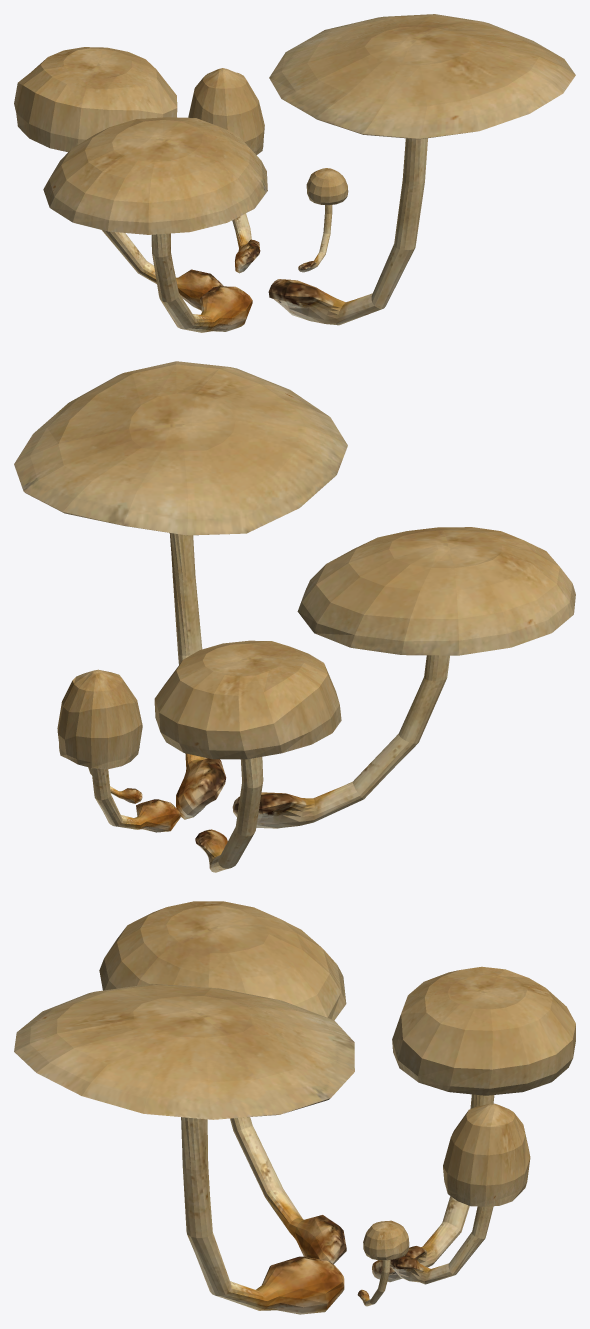
The model's file is P_Xinbaogu_03.obj.
3 renders of one model, top to bottom at view 1: azimuth 30°, elevation 25°; view 2: azimuth 150°, elevation 25°; view 3: azimuth 270°, elevation 25°, orthographic. The views are drawn at different scales.
Size of the model in its own units: 0.8671 by 0.5317 by 0.8021.
1 material, 1 textured.
